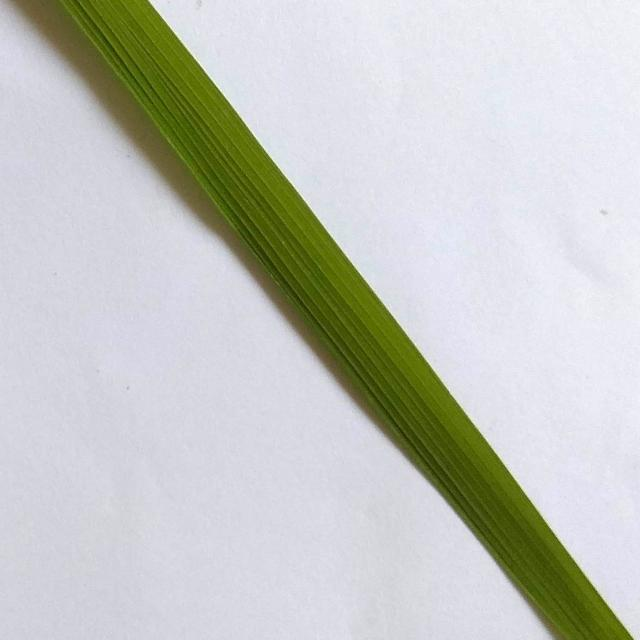Rice_Healthy: (60, 0, 634, 640)
